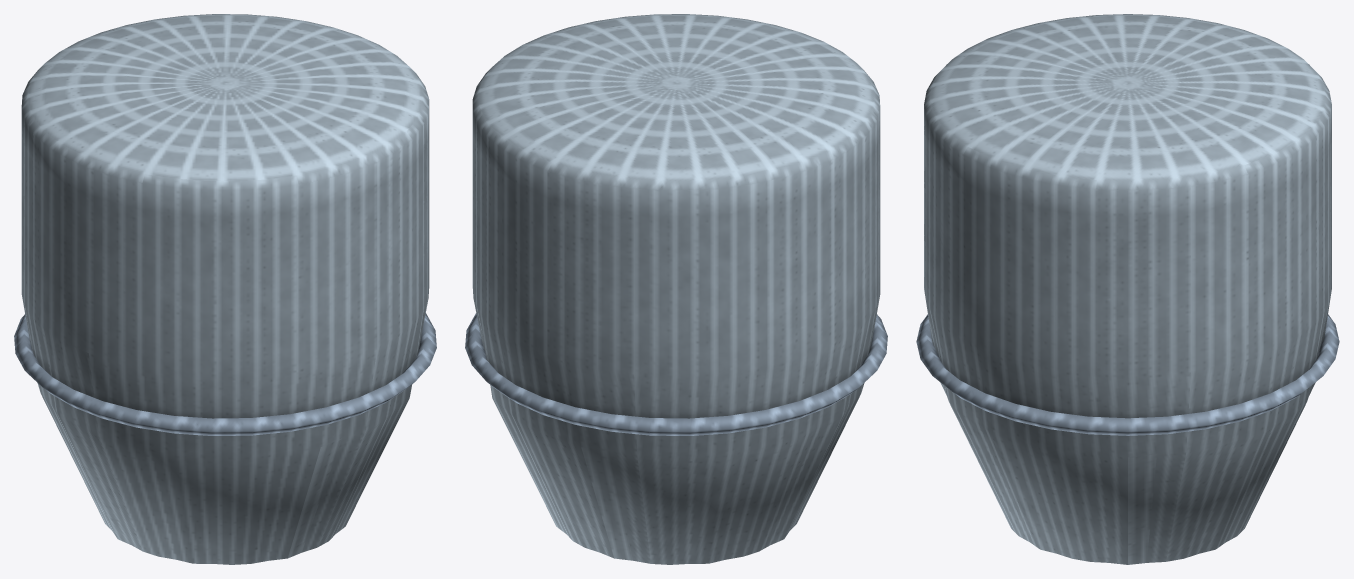
Rendered from shell_girdle_drum.glb.
The picture shows the model from 3 angles, left to right: view 1: azimuth 30°, elevation 25°; view 2: azimuth 150°, elevation 25°; view 3: azimuth 270°, elevation 25°; orthographic projection.
Visible parts, largest first — view 1: ShellGirdleDrum; view 2: ShellGirdleDrum; view 3: ShellGirdleDrum.
Boxes of the visible parts, x1=… form: ShellGirdleDrum: x1=14, y1=14, x2=436, y2=564; ShellGirdleDrum: x1=465, y1=14, x2=887, y2=564; ShellGirdleDrum: x1=916, y1=14, x2=1339, y2=564.
Size of the model in its own units: 2.18 by 2.59 by 2.18.
Materials: 2 (2 with a texture image).
